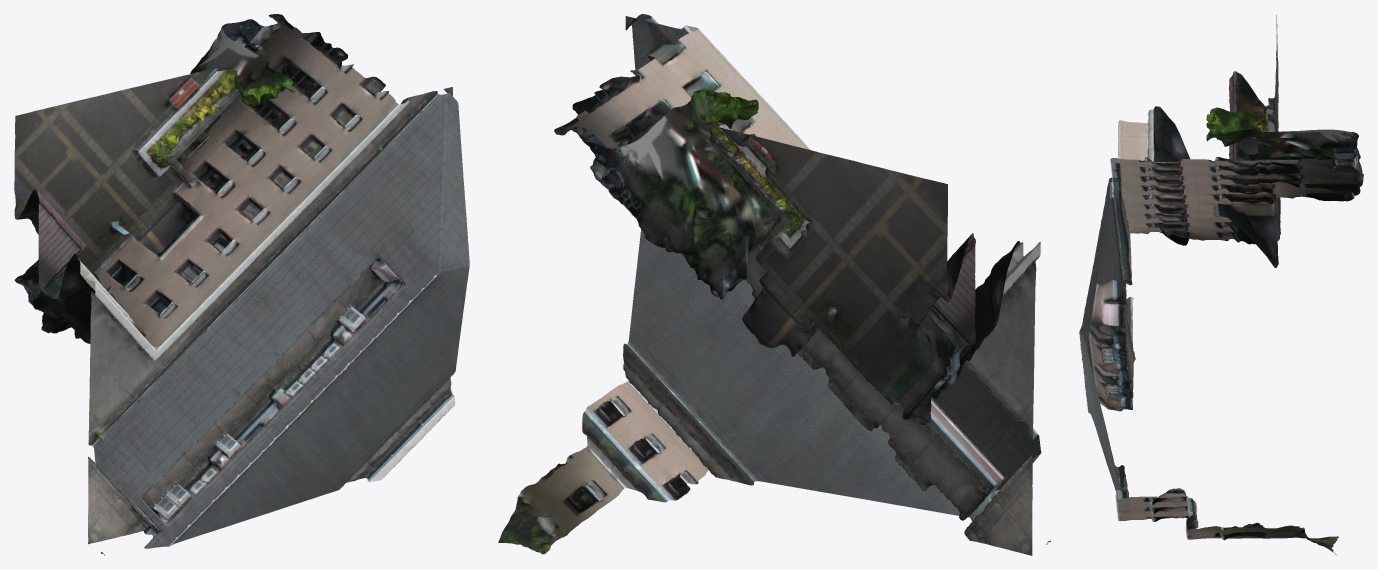
Rendered from Tile_+007_+011.fbx.
3 renders of one model, left to right at view 1: azimuth 30°, elevation 25°; view 2: azimuth 150°, elevation 25°; view 3: azimuth 270°, elevation 25°, orthographic. The views are drawn at different scales.
Parts seen in each view (by area): view 1: DefaultName; view 2: DefaultName; view 3: DefaultName.
Boxes of the visible parts, left/top/right/bottom form: DefaultName: left=14, top=14, right=469, bottom=555; DefaultName: left=498, top=14, right=1050, bottom=555; DefaultName: left=1079, top=15, right=1363, bottom=554.
Bounding box in the file's own units: 22.54 × 22.54 × 15.74.
